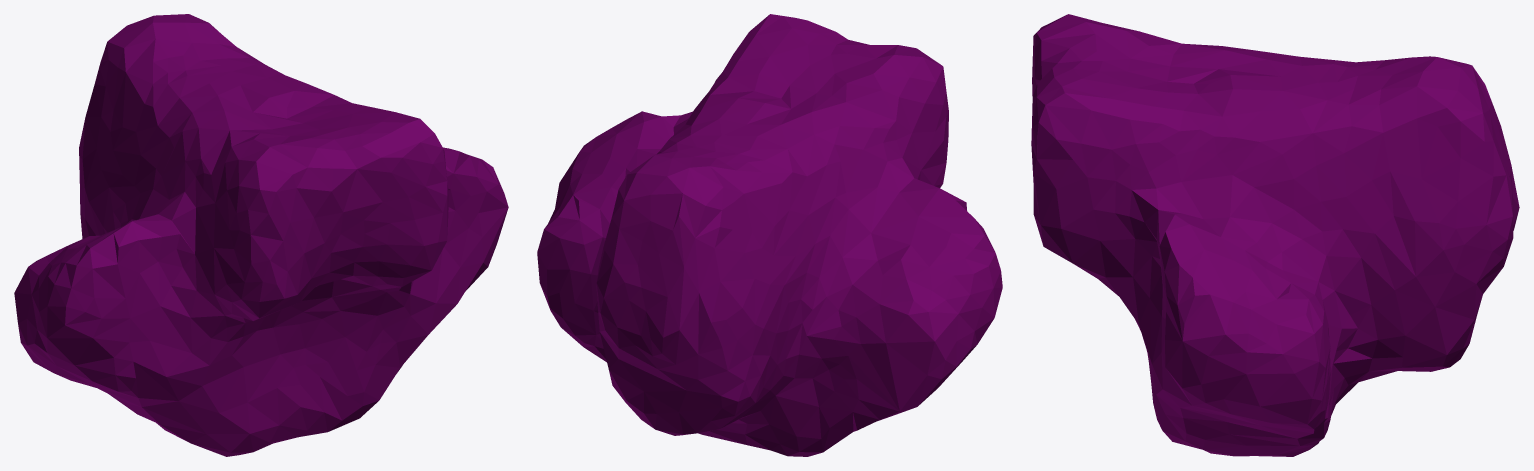
File: 112-25-area 25 of cortex-('0.4980', '0.0000', '0.4588').obj
3 renders of one model, left to right at view 1: azimuth 30°, elevation 25°; view 2: azimuth 150°, elevation 25°; view 3: azimuth 270°, elevation 25°, orthographic. The views are drawn at different scales.
Size of the model in its own units: 81.39 by 61.18 by 72.14.
